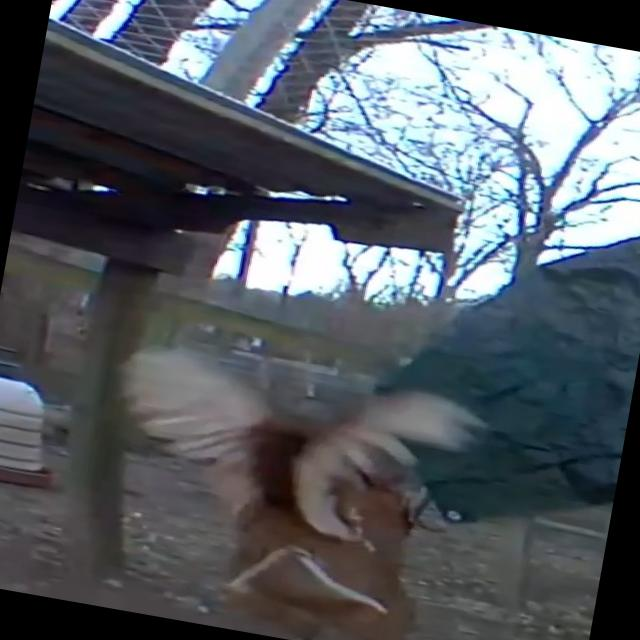wing flap: (78, 318, 521, 640)
